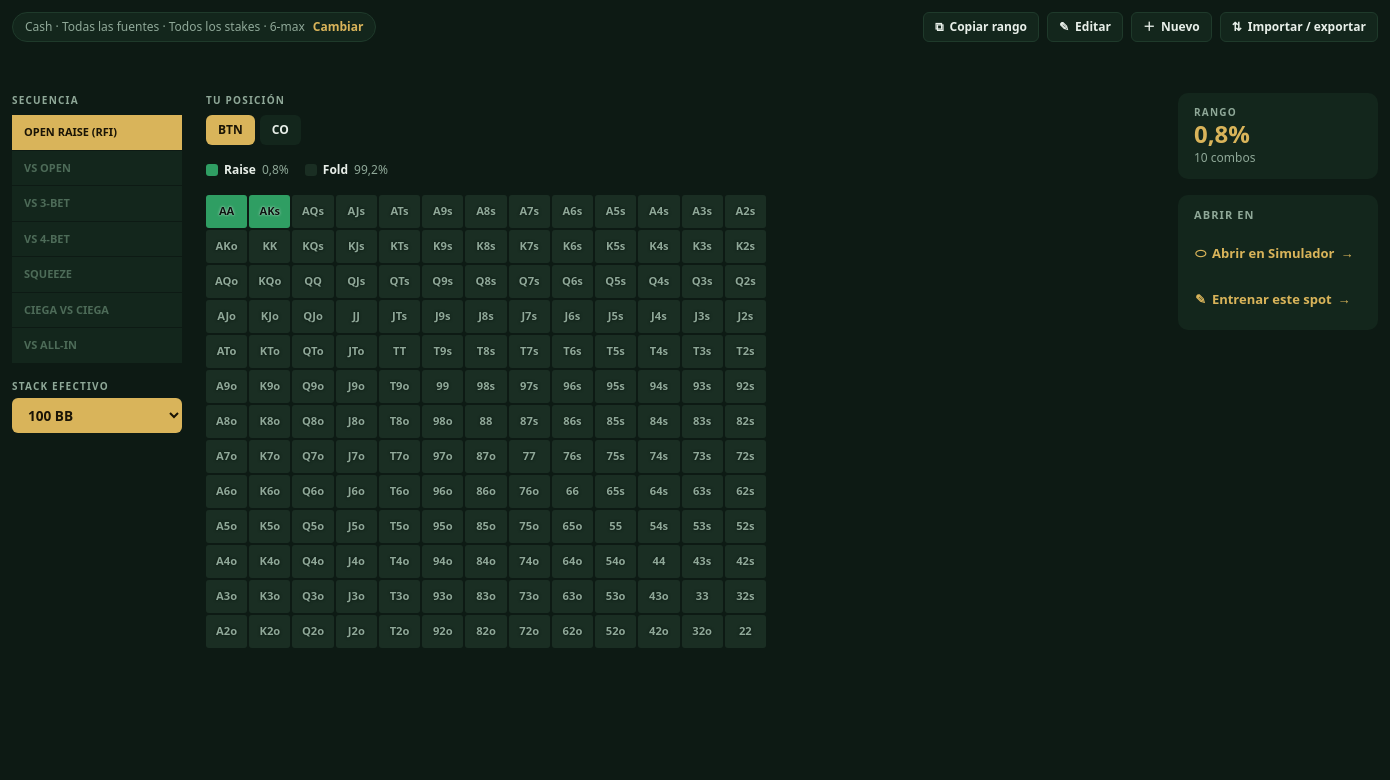
it: PreflopViewer › shows the filter chip, the sequence, positions from the API and the chart stats
Check: the text "Cash · Todas las fuentes · Todos los stakes · 6-max" is shown, box 25,18 -> 305,36
Click the button "Cambiar" at point(338, 27), box 313,18 -> 363,36
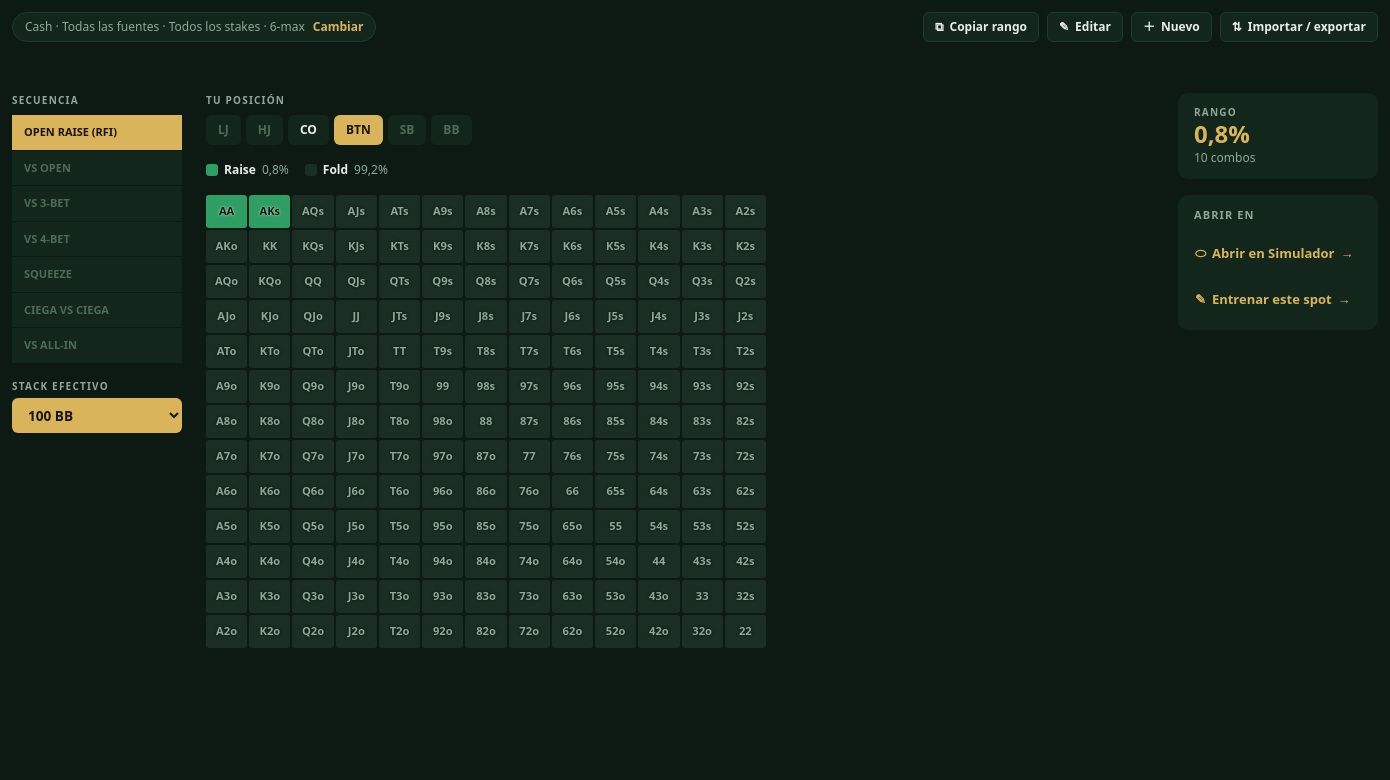
Check: the radio button labelled "Open raise (RFI)" is checked, box 12,115 -> 182,150
Check: the radio button labelled "LJ" is disabled, box 206,115 -> 241,145
